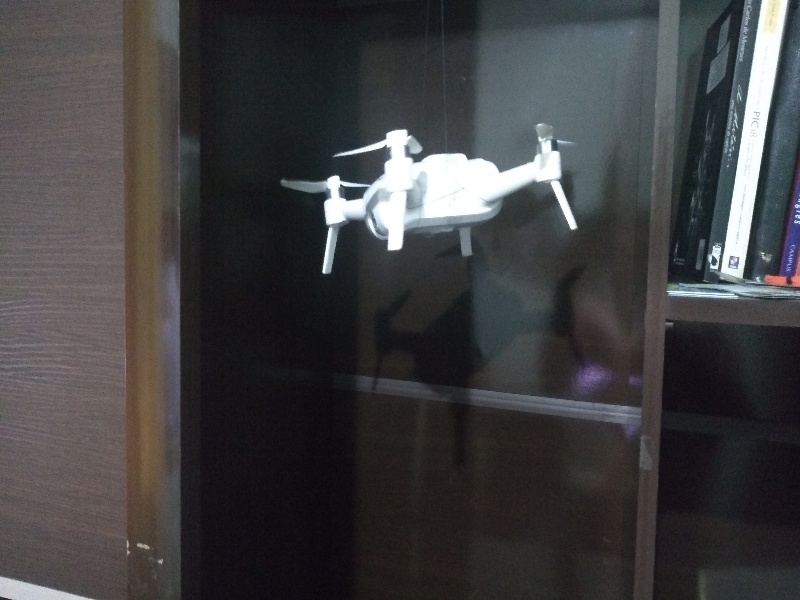drone: (286, 119, 584, 263)
